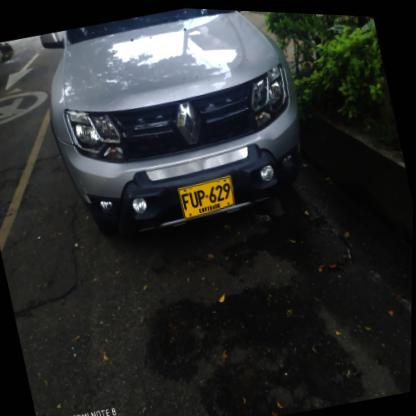placa: (172, 166, 245, 224)
